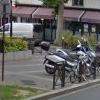Motorcycle: (40, 42, 98, 78)
